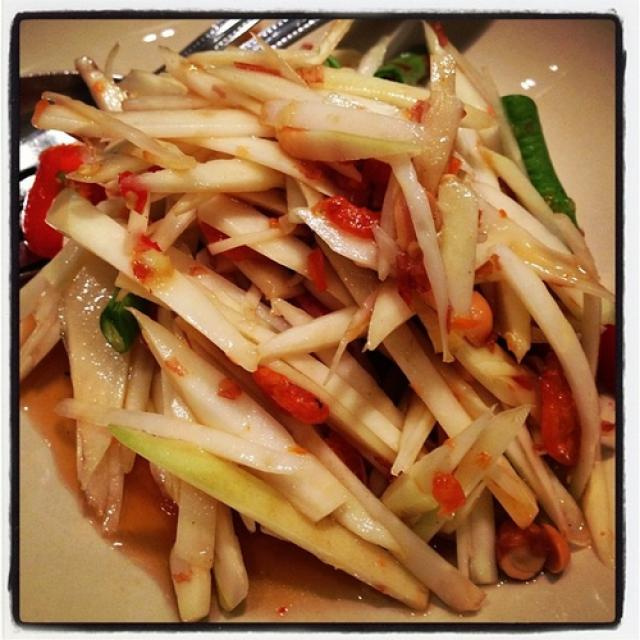蔬菜料理: (36, 35, 589, 608)
